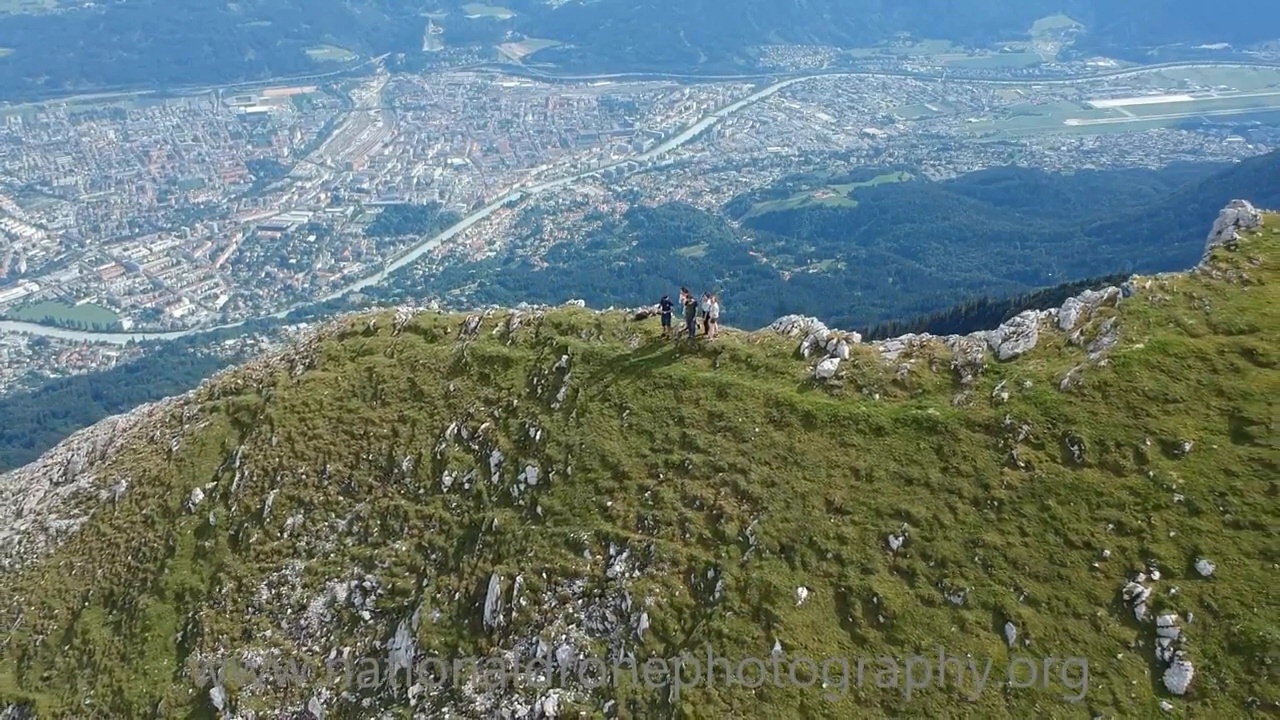insan: (655, 294, 673, 340), (682, 294, 696, 342), (708, 292, 720, 341), (678, 287, 689, 330), (701, 292, 709, 341)
